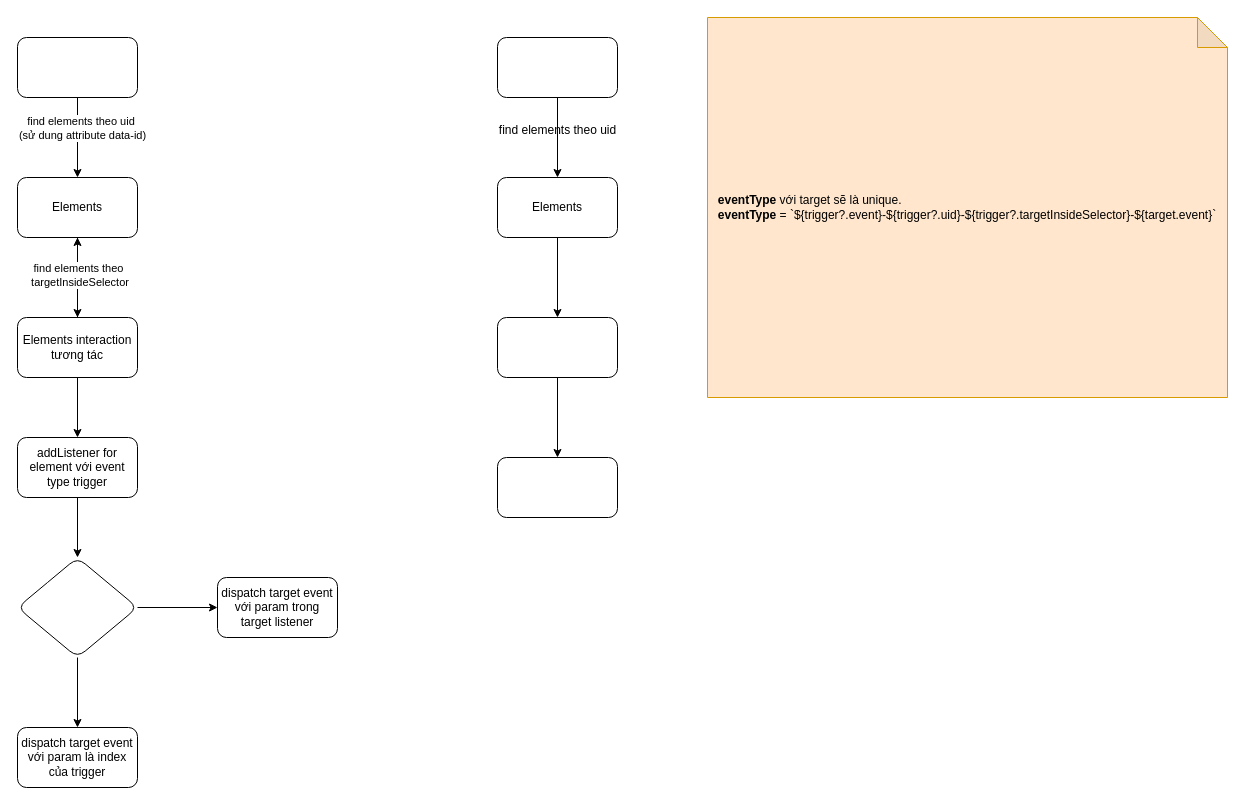
Image size: 1245x805. Some labels were removed from this diagram. The centre of each missing label's shape, as x and y in pixels:
"addListener for elements với eventType" belongs at point 557,347.
"Interaction target (uid, event, condition...)" belongs at point 557,67.
"is trigger set for children" belongs at point 77,607.
"Trigger interaction (uid, event, targetInsideSelector)" belongs at point 77,67.
